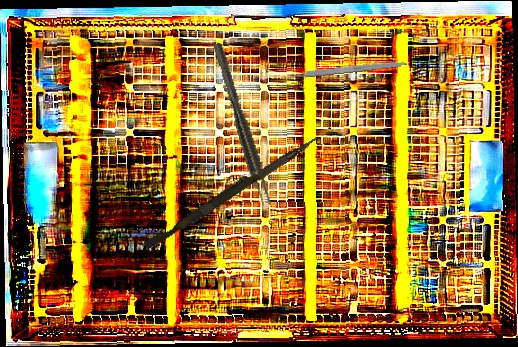Pusher: (143, 129, 319, 255)
Scalpel Handle: (289, 58, 408, 80)
Tissue Forceps: (212, 40, 274, 209)
